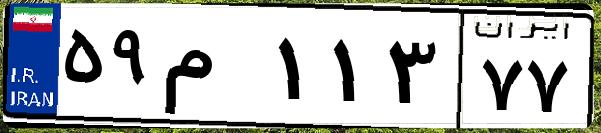1: (270, 28, 330, 110), (330, 28, 385, 110)
3: (385, 28, 445, 110)
5: (57, 26, 110, 100)
7: (475, 38, 525, 113), (525, 38, 570, 115)
9: (110, 28, 158, 98)
م: (158, 20, 270, 120)
